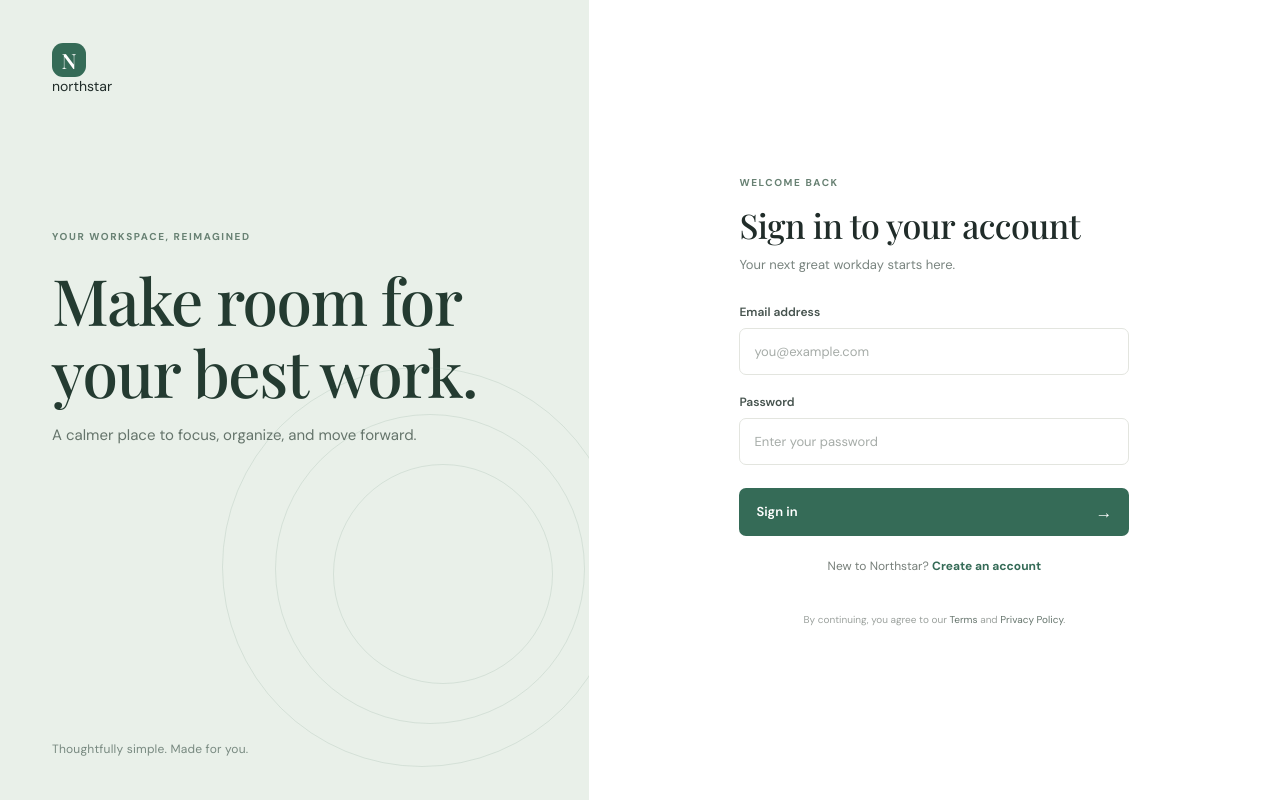
Test case: authentication pages › shows the API error when login is rejected
Step 1. Type "alex@example.com" into the field labelled "Email address" → (934, 351), box [739, 328, 1129, 374]
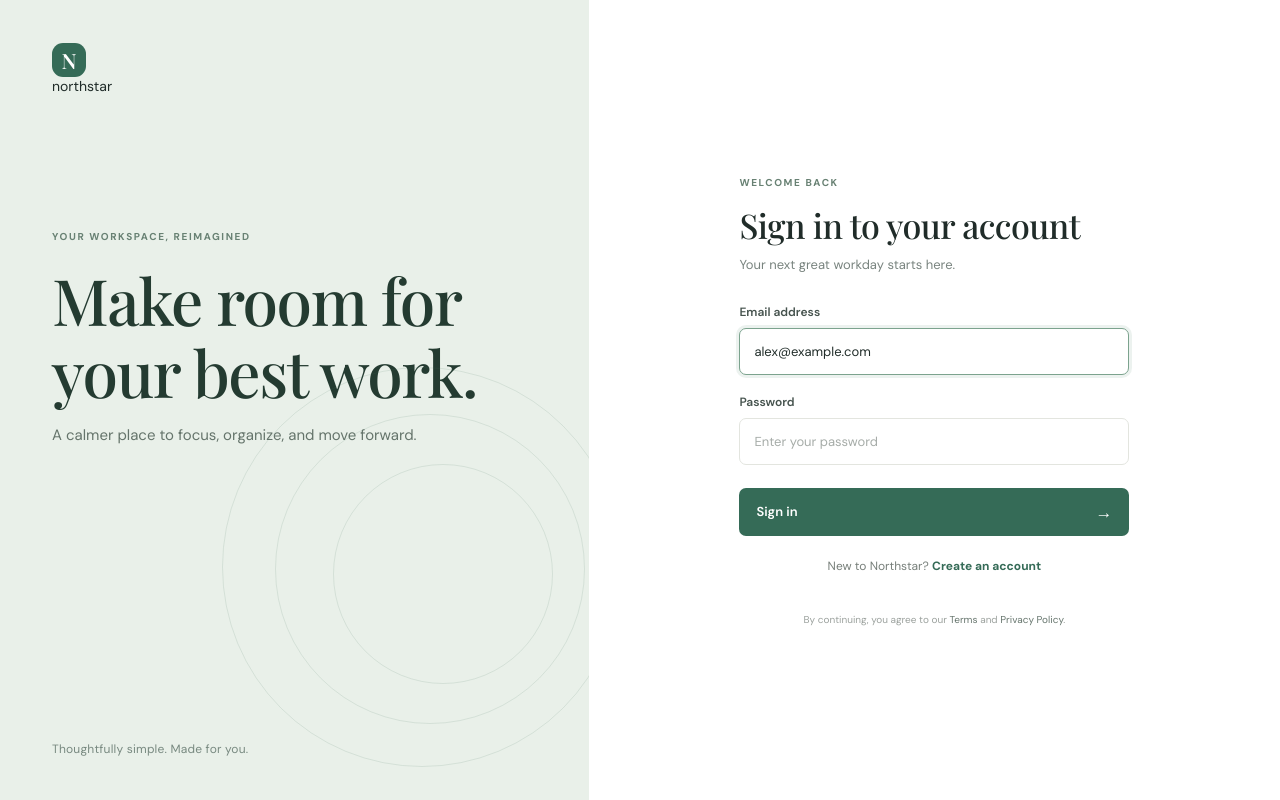
Step 2. Type "password123" into the password field labelled "Password" → (934, 441), box [739, 418, 1129, 464]
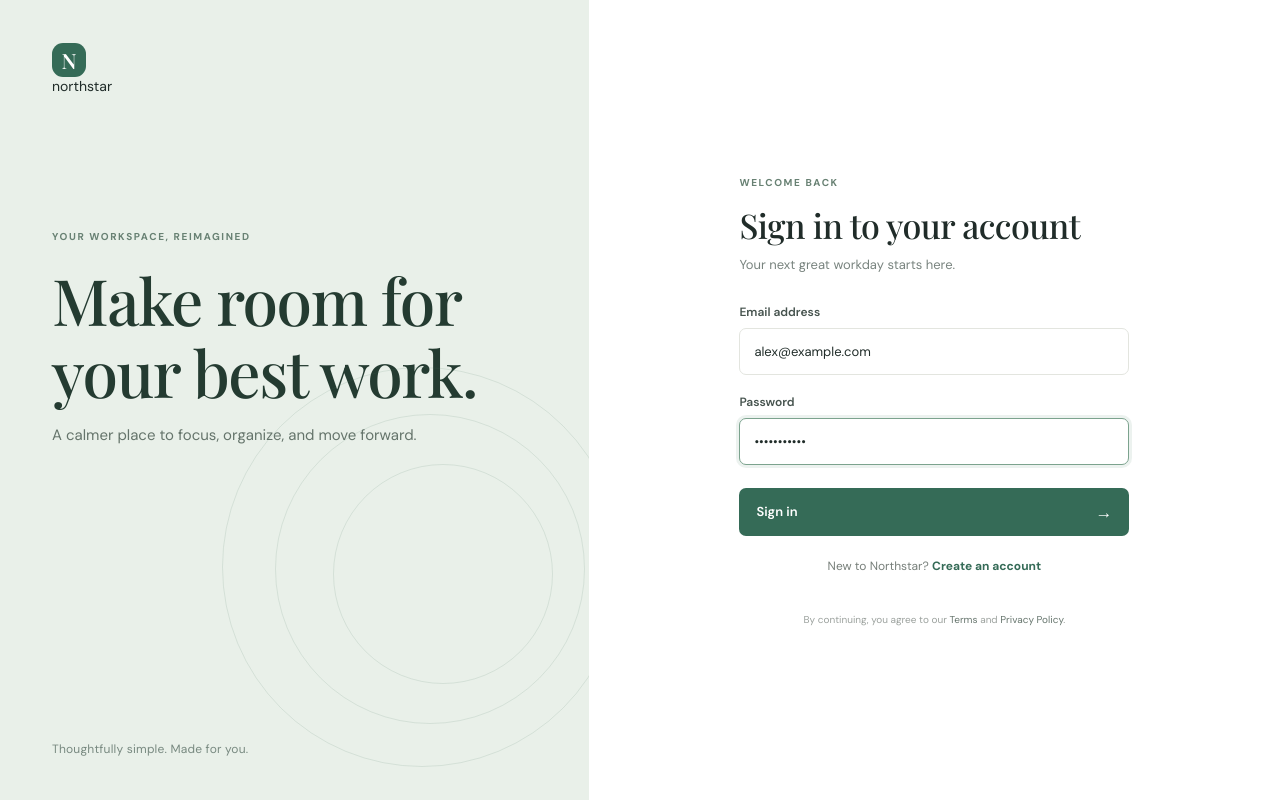
Step 3. Click the button "Sign in →" → (777, 512), box [739, 488, 1129, 536]
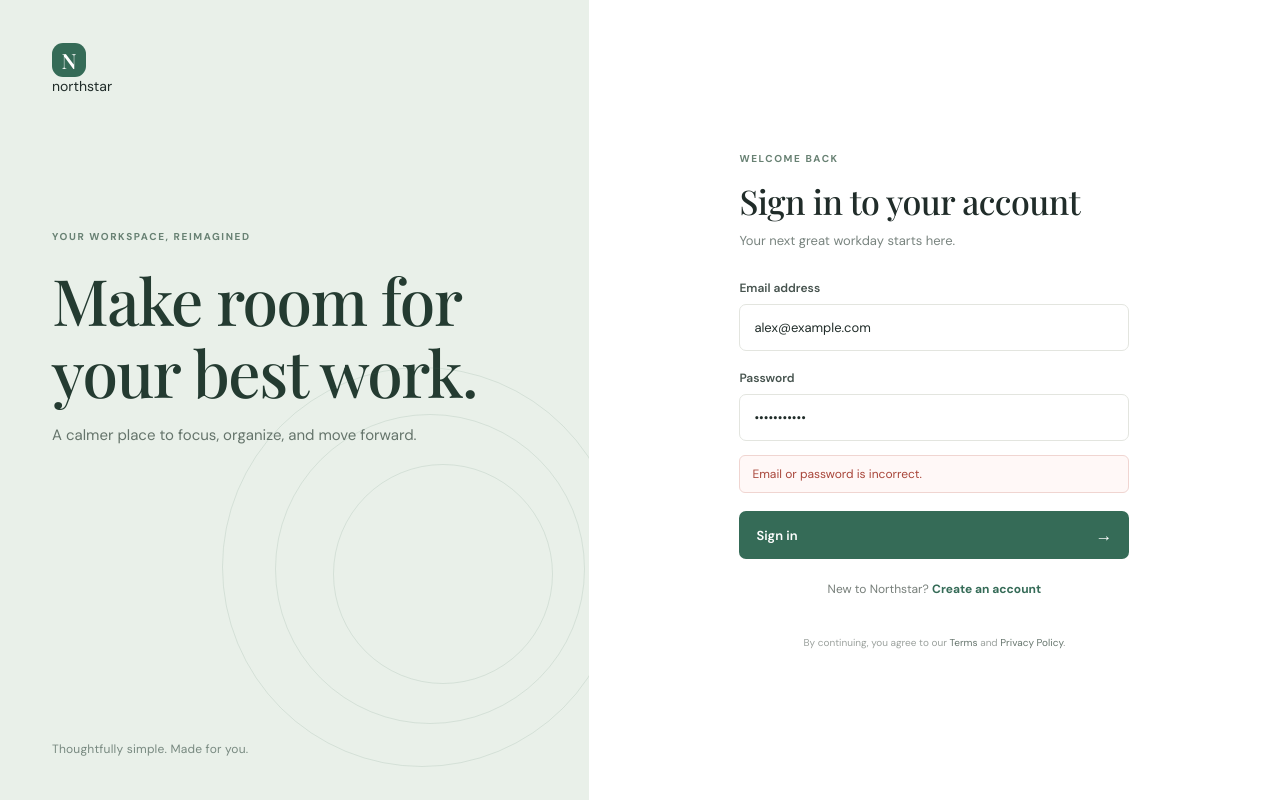
Expected: the message reads "Email or password is incorrect.", [752, 466, 922, 482]
